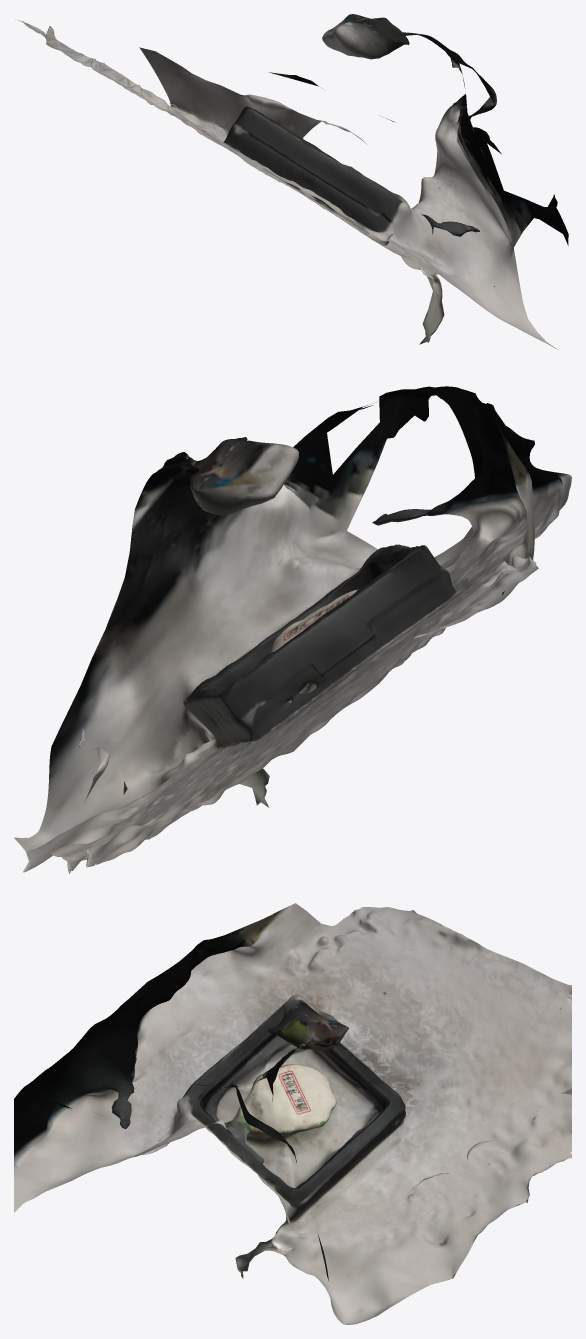
The picture shows the model from 3 angles, top to bottom: view 1: azimuth 30°, elevation 25°; view 2: azimuth 150°, elevation 25°; view 3: azimuth 270°, elevation 25°; orthographic projection. The views are drawn at different scales.
Size of the model in its own units: 1.73 by 1.41 by 2.54.
1 material, 1 textured.
